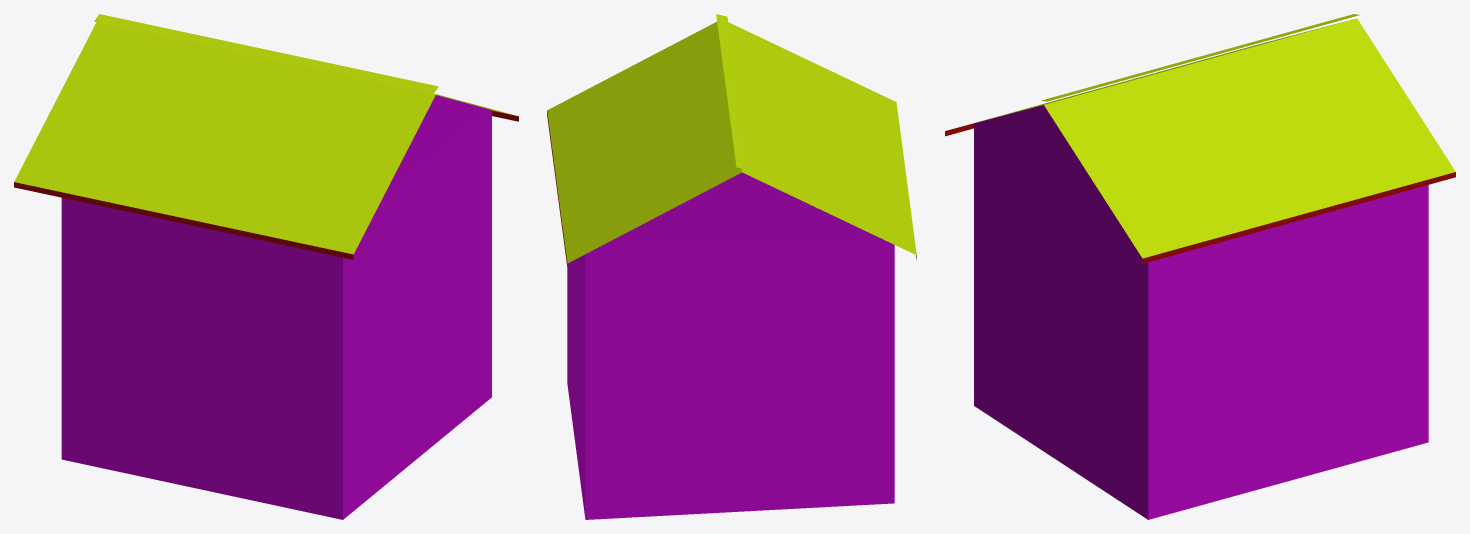
Rendered from bgj_2.glb.
The picture shows the model from 3 angles, left to right: view 1: azimuth 30°, elevation 25°; view 2: azimuth 150°, elevation 25°; view 3: azimuth 270°, elevation 25°; orthographic projection. The views are drawn at different scales.
Parts seen in each view (by area): view 1: bgj_2; view 2: bgj_2; view 3: bgj_2.
Part boxes in pixels (box(x1,y1,x2,y2)): bgj_2: box(14, 14, 518, 519); bgj_2: box(547, 14, 916, 519); bgj_2: box(945, 14, 1455, 519).
Bounding box in the file's own units: 10.32 × 8.27 × 10.4.
